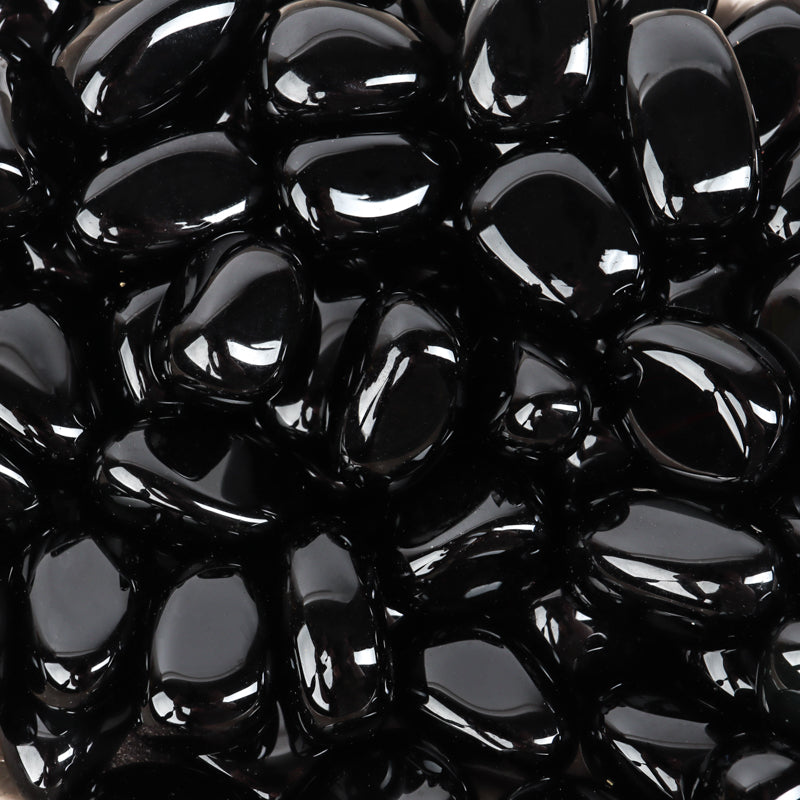Obsidian: (3, 5, 788, 793)
